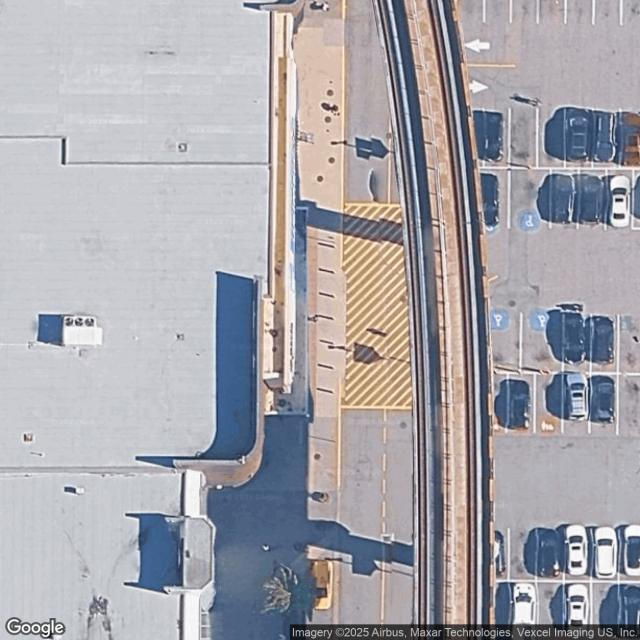car: (560, 309, 587, 365), (564, 370, 591, 426), (565, 106, 591, 164), (510, 582, 536, 638), (618, 108, 640, 174), (563, 523, 589, 578), (590, 314, 616, 367), (592, 374, 618, 426), (505, 378, 530, 429), (594, 110, 616, 166), (595, 526, 618, 579), (538, 528, 561, 580), (566, 584, 589, 636), (480, 172, 501, 227), (482, 108, 504, 160), (552, 173, 574, 225), (581, 174, 603, 224), (621, 582, 640, 638), (610, 174, 630, 227), (622, 522, 640, 578), (493, 529, 509, 578)
stall: (508, 170, 550, 229), (522, 313, 562, 372), (487, 313, 522, 376), (479, 169, 510, 230), (537, 107, 565, 168), (564, 108, 592, 169), (550, 168, 578, 229), (579, 169, 607, 230), (605, 169, 633, 230), (562, 313, 590, 374), (508, 375, 536, 436), (590, 313, 618, 373), (590, 374, 617, 435), (508, 520, 535, 581), (537, 520, 564, 581), (536, 582, 564, 640), (591, 582, 619, 640), (510, 582, 538, 640), (509, 107, 536, 167), (592, 108, 619, 168), (482, 108, 509, 168), (563, 375, 590, 435), (535, 375, 562, 435), (592, 521, 619, 581), (564, 521, 591, 581), (618, 374, 640, 436), (618, 313, 640, 374), (619, 582, 640, 640), (621, 520, 640, 581), (621, 108, 640, 168), (492, 374, 509, 436), (493, 522, 509, 582), (494, 583, 511, 639), (456, 0, 485, 22), (484, 0, 510, 22), (538, 0, 564, 22), (566, 0, 592, 22), (594, 0, 620, 22), (511, 0, 536, 22), (621, 0, 640, 22)
